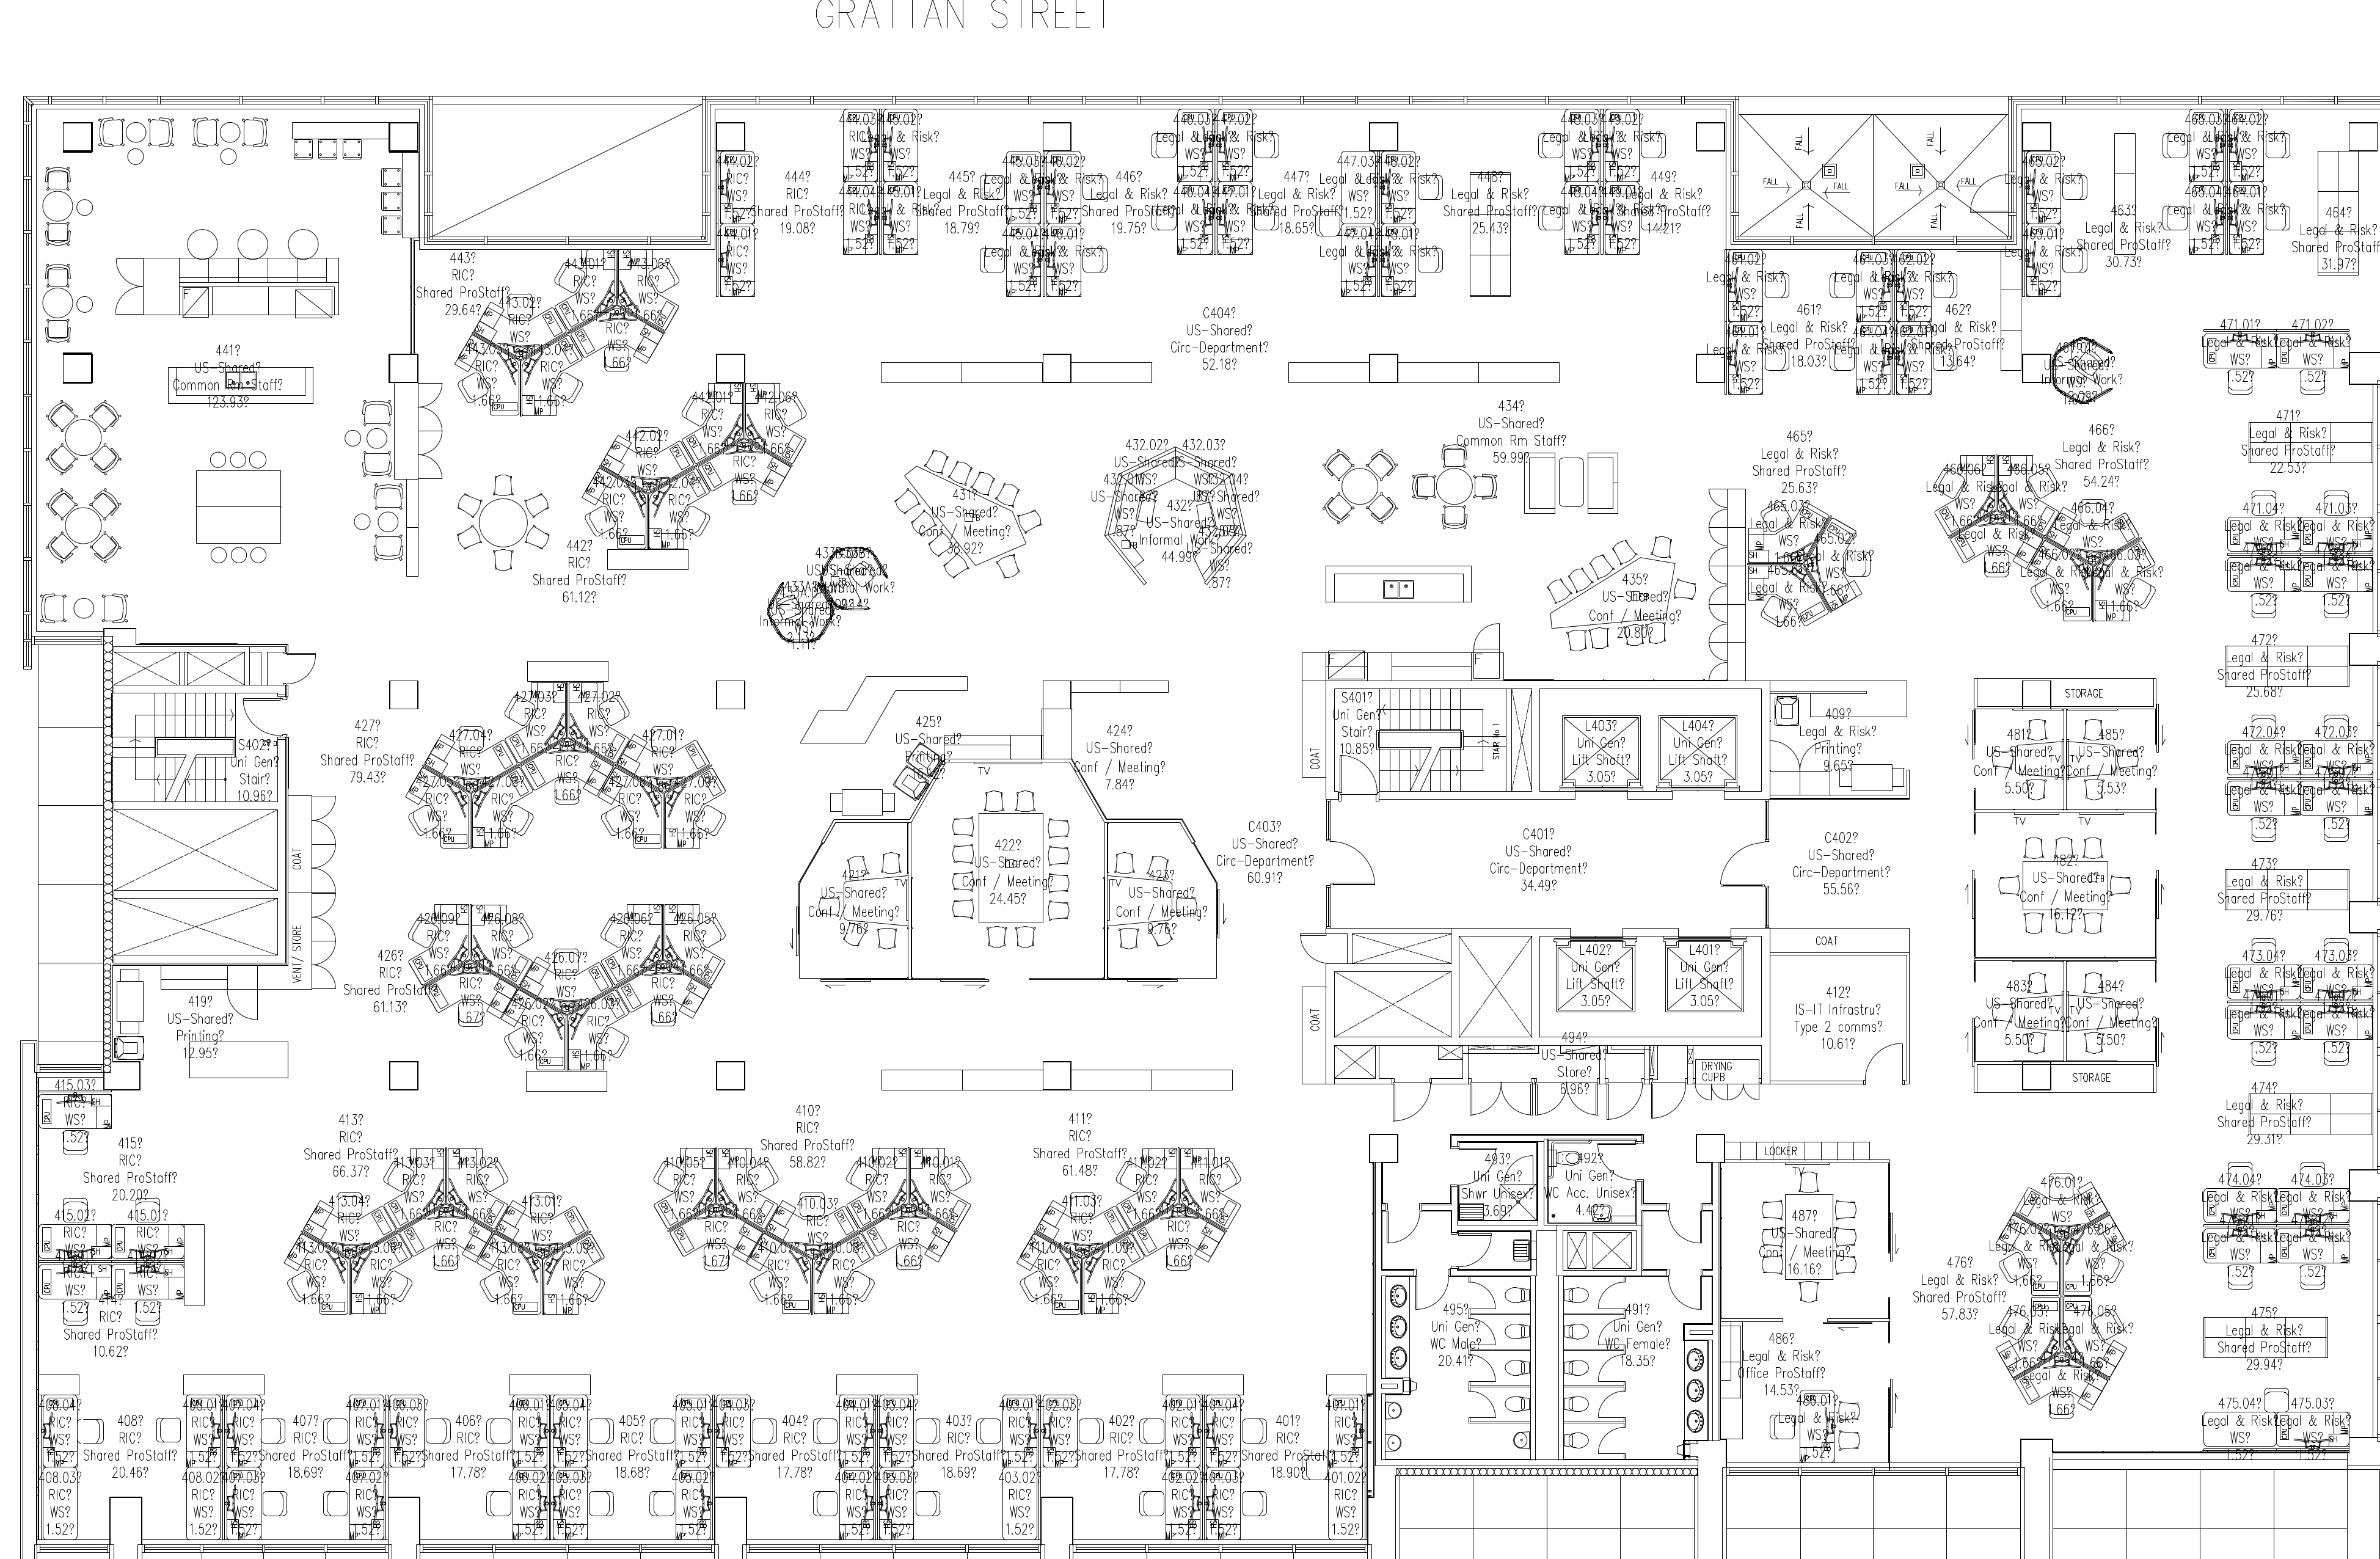text: (80, 1401, 190, 1505), (169, 332, 289, 414), (962, 830, 1060, 922), (341, 941, 444, 1028), (1755, 1199, 1855, 1288), (1785, 825, 1898, 901), (297, 1105, 405, 1185), (1164, 298, 1274, 374), (525, 529, 632, 607), (426, 1411, 518, 1500), (586, 1409, 685, 1491), (2216, 1296, 2316, 1378), (802, 858, 903, 938), (1026, 1107, 1134, 1181), (2211, 853, 2319, 927), (1451, 398, 1569, 466), (759, 1100, 863, 1176), (2053, 419, 2156, 494), (1910, 1251, 2006, 1331), (1486, 821, 1590, 894), (915, 482, 1014, 559), (1583, 571, 1682, 647), (2077, 198, 2171, 278), (2213, 628, 2316, 701), (2241, 404, 2337, 482), (317, 713, 416, 788), (1976, 974, 2062, 1061), (2213, 1075, 2314, 1148), (746, 1409, 842, 1486), (1969, 724, 2065, 800), (1214, 816, 1317, 887), (1070, 720, 1171, 792), (1750, 426, 1851, 498), (264, 1406, 358, 1482), (912, 1413, 1007, 1488), (1246, 165, 1348, 235), (1787, 981, 1889, 1051), (416, 249, 511, 322), (63, 1293, 162, 1362), (1108, 860, 1209, 927), (1082, 165, 1178, 237), (1736, 1328, 1832, 1399), (1240, 1411, 1331, 1486), (2065, 976, 2156, 1051), (1794, 703, 1886, 776), (2067, 726, 2161, 797), (1919, 298, 2006, 374), (919, 169, 1011, 240), (2022, 853, 2114, 924), (1552, 1143, 1637, 1220), (1442, 169, 1540, 235), (82, 1138, 181, 1202), (1079, 1411, 1166, 1484), (1623, 165, 1712, 237), (753, 171, 846, 238), (2291, 205, 2380, 275), (1456, 1147, 1538, 1221), (1764, 303, 1855, 369), (1658, 717, 1736, 792), (162, 990, 238, 1065), (1667, 938, 1743, 1013), (1557, 940, 1635, 1013), (1561, 717, 1641, 788), (1602, 1296, 1674, 1376), (894, 710, 967, 783), (1140, 496, 1214, 567), (1425, 1295, 1486, 1378), (1536, 1030, 1606, 1101), (221, 733, 284, 807), (1329, 687, 1385, 760), (49, 1075, 103, 1148)
